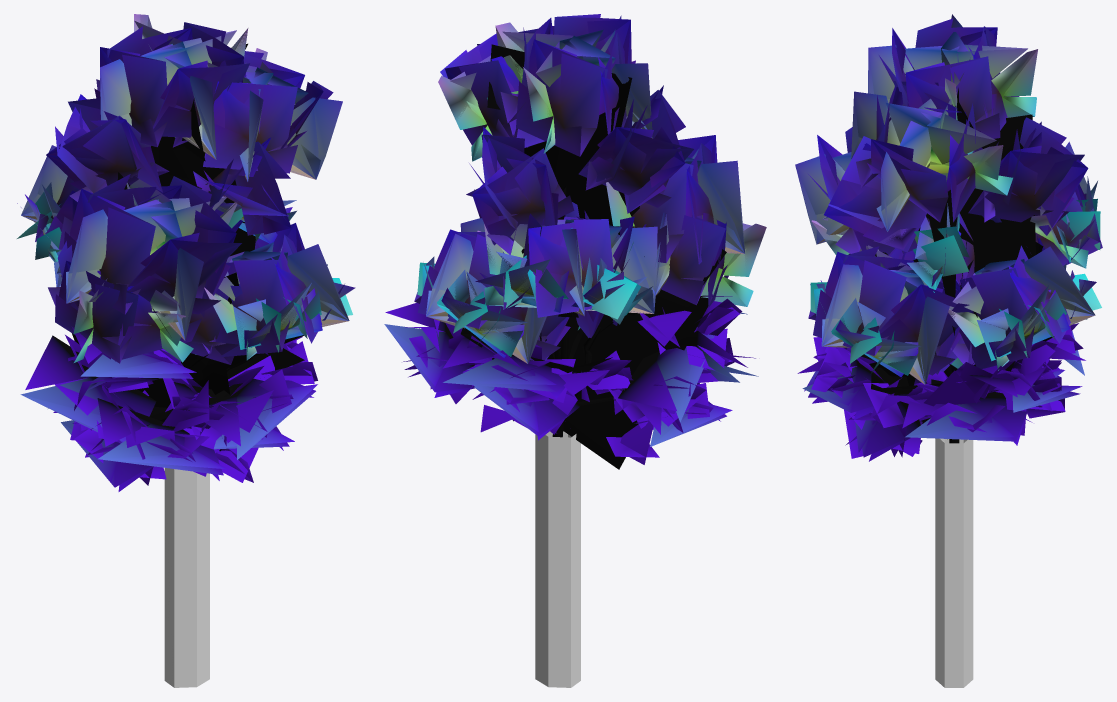
The model's file is hbp_sakura_wide.dae.
The picture shows the model from 3 angles, left to right: view 1: azimuth 30°, elevation 25°; view 2: azimuth 150°, elevation 25°; view 3: azimuth 270°, elevation 25°; orthographic projection. The views are drawn at different scales.
Parts seen in each view (by area): view 1: hbp_sakura_a600, hbp_sakura_a125, hbp_sakura_a300, Colmesh_hbp_sakura-1; view 2: hbp_sakura_a600, hbp_sakura_a125, hbp_sakura_a300, Colmesh_hbp_sakura-1; view 3: hbp_sakura_a600, hbp_sakura_a125, hbp_sakura_a300, Colmesh_hbp_sakura-1.
Boxes of the visible parts, x1=… form: hbp_sakura_a600: x1=21, y1=14, x2=352, y2=491; hbp_sakura_a125: x1=17, y1=14, x2=355, y2=487; hbp_sakura_a300: x1=21, y1=30, x2=349, y2=482; Colmesh_hbp_sakura-1: x1=164, y1=468, x2=209, y2=687; hbp_sakura_a600: x1=385, y1=14, x2=766, y2=469; hbp_sakura_a125: x1=384, y1=17, x2=755, y2=460; hbp_sakura_a300: x1=409, y1=15, x2=744, y2=466; Colmesh_hbp_sakura-1: x1=535, y1=431, x2=580, y2=687; hbp_sakura_a600: x1=795, y1=14, x2=1102, y2=461; hbp_sakura_a125: x1=795, y1=26, x2=1101, y2=458; hbp_sakura_a300: x1=808, y1=27, x2=1094, y2=439; Colmesh_hbp_sakura-1: x1=935, y1=438, x2=973, y2=687.
Bounding box in the file's own units: 4.23 × 3.6 × 8.17.
